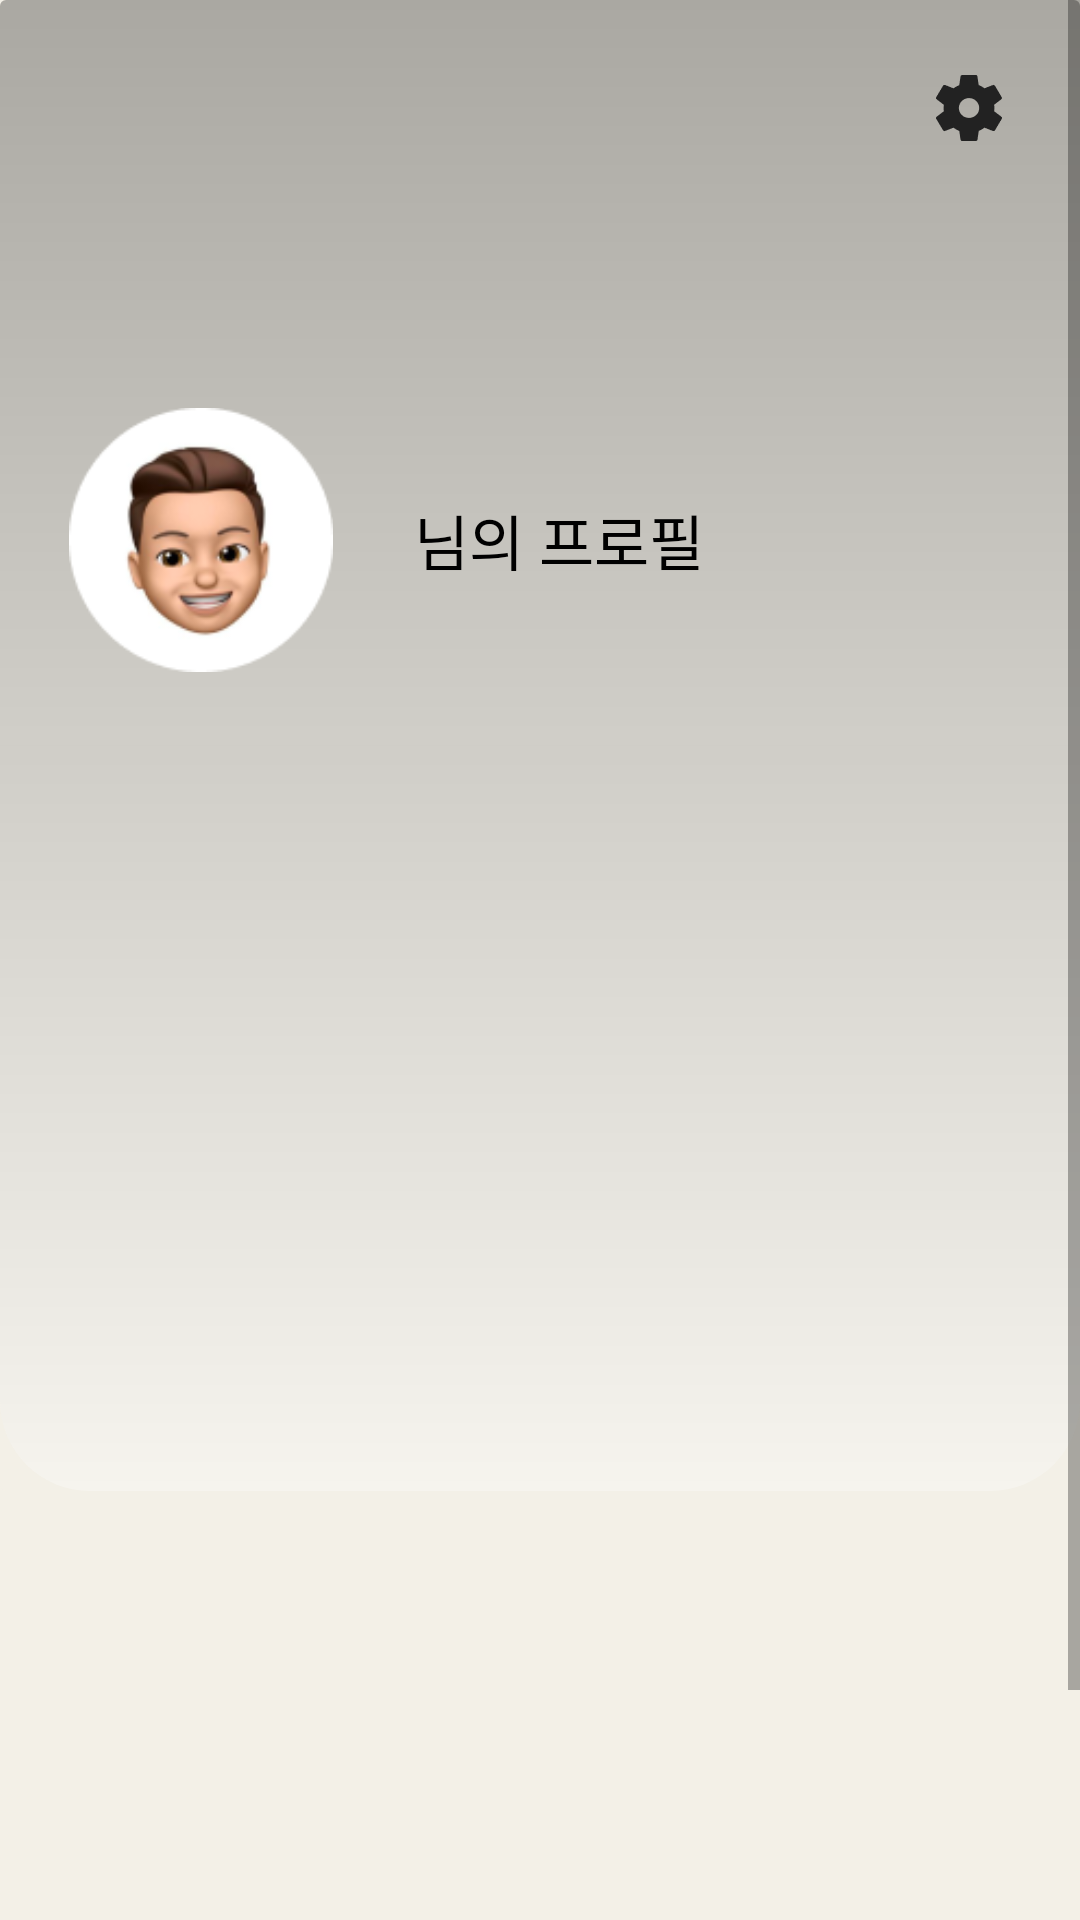

Icon bounding boxes for this 1080x1920 phone screenshot, format (x1, y1, x2, y2):
profile: (69, 408, 333, 672)
setting: (936, 75, 1002, 141)
